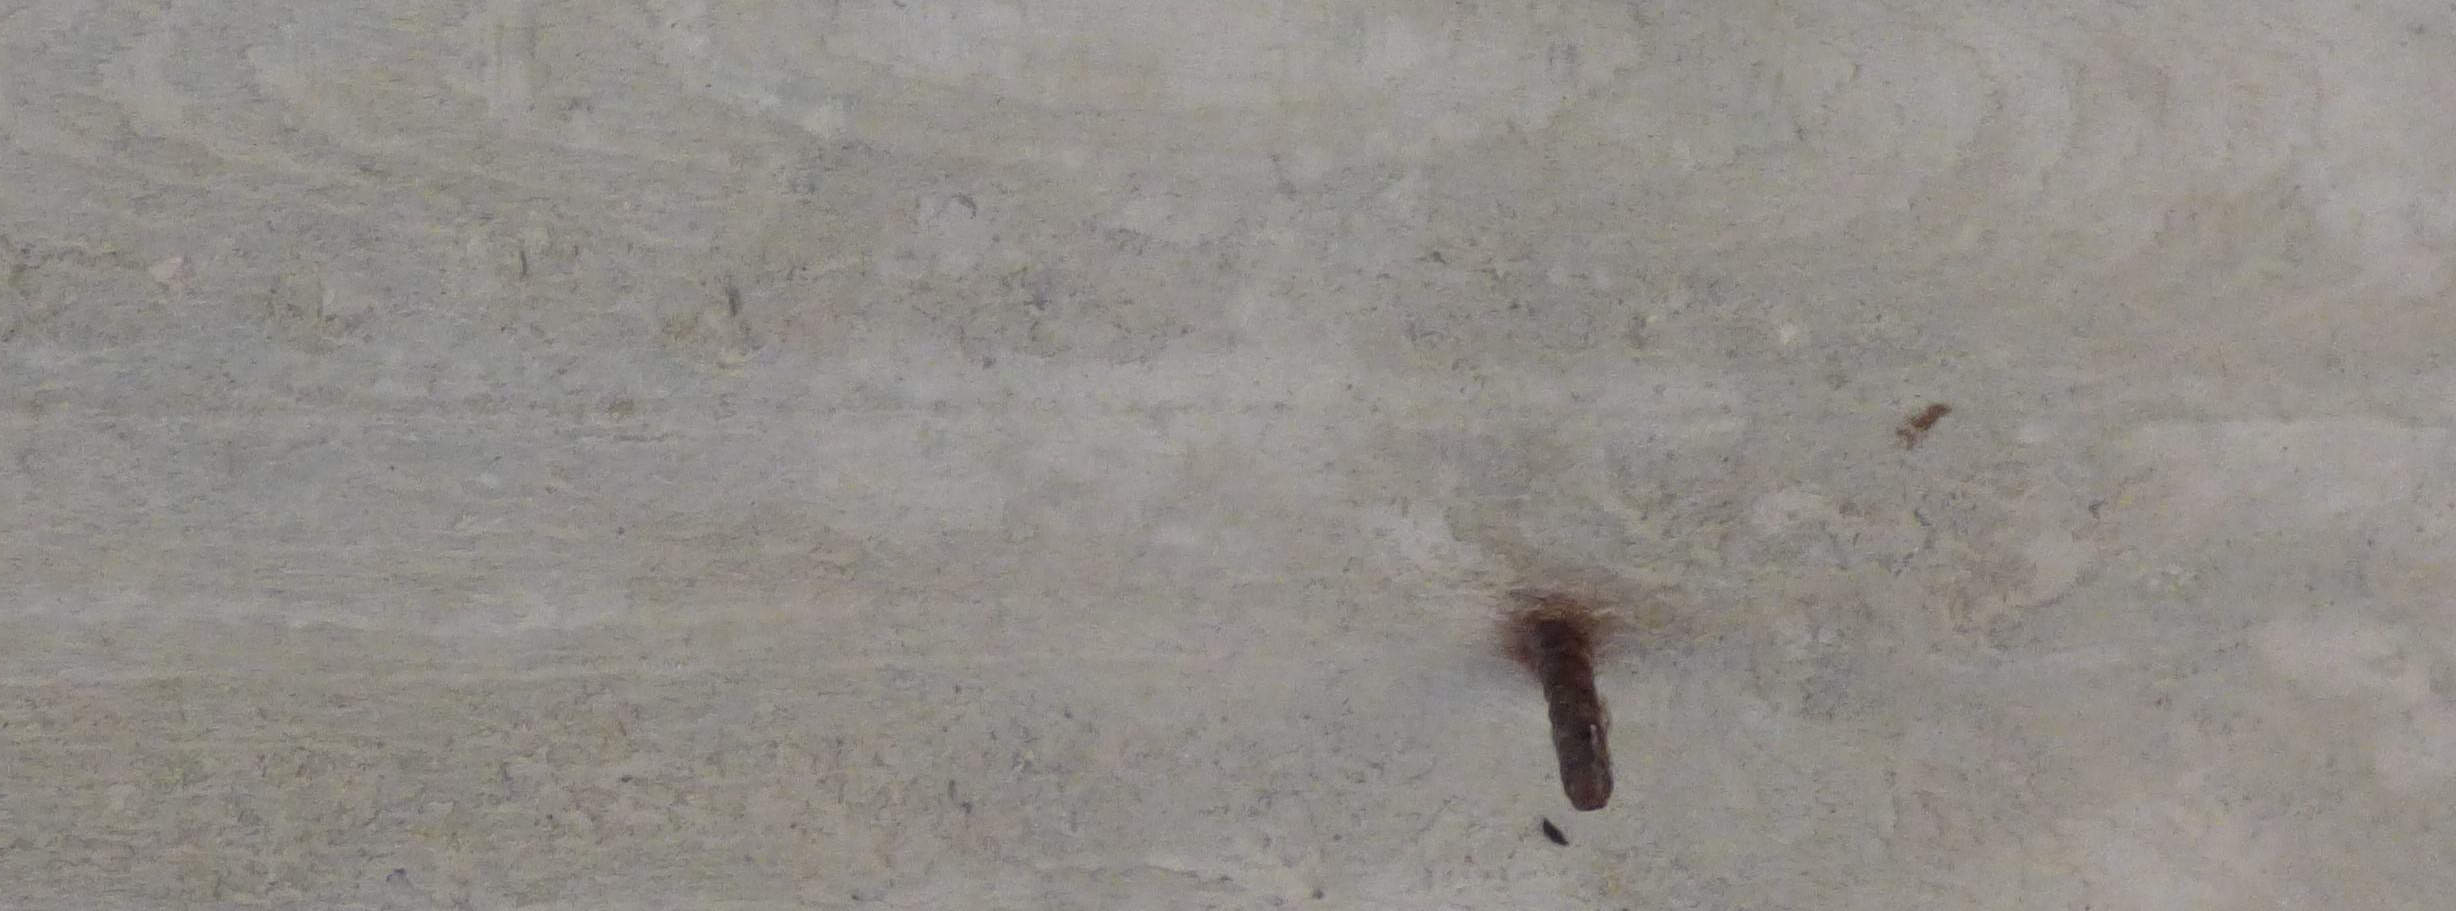Exposed reinforcement: (1535, 618, 1615, 812)
